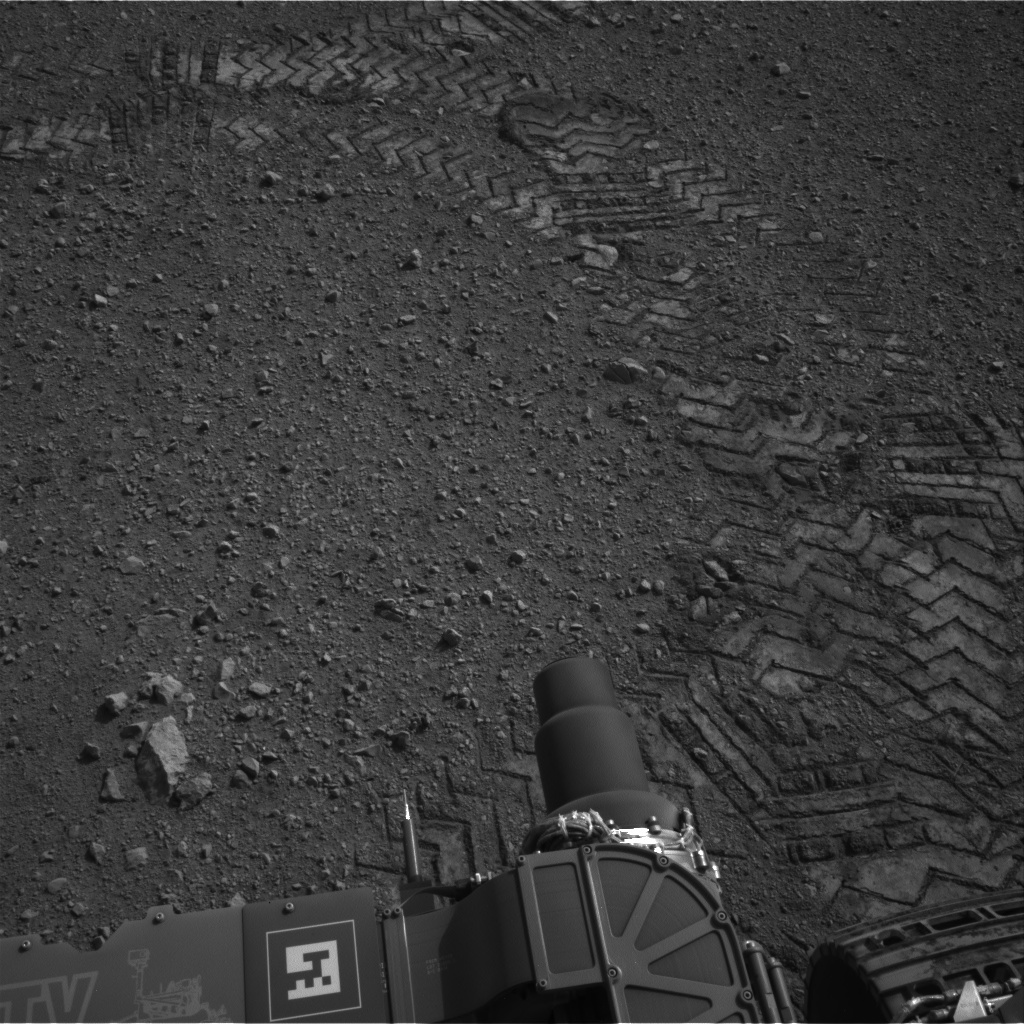soil: (3, 5, 1018, 907)
